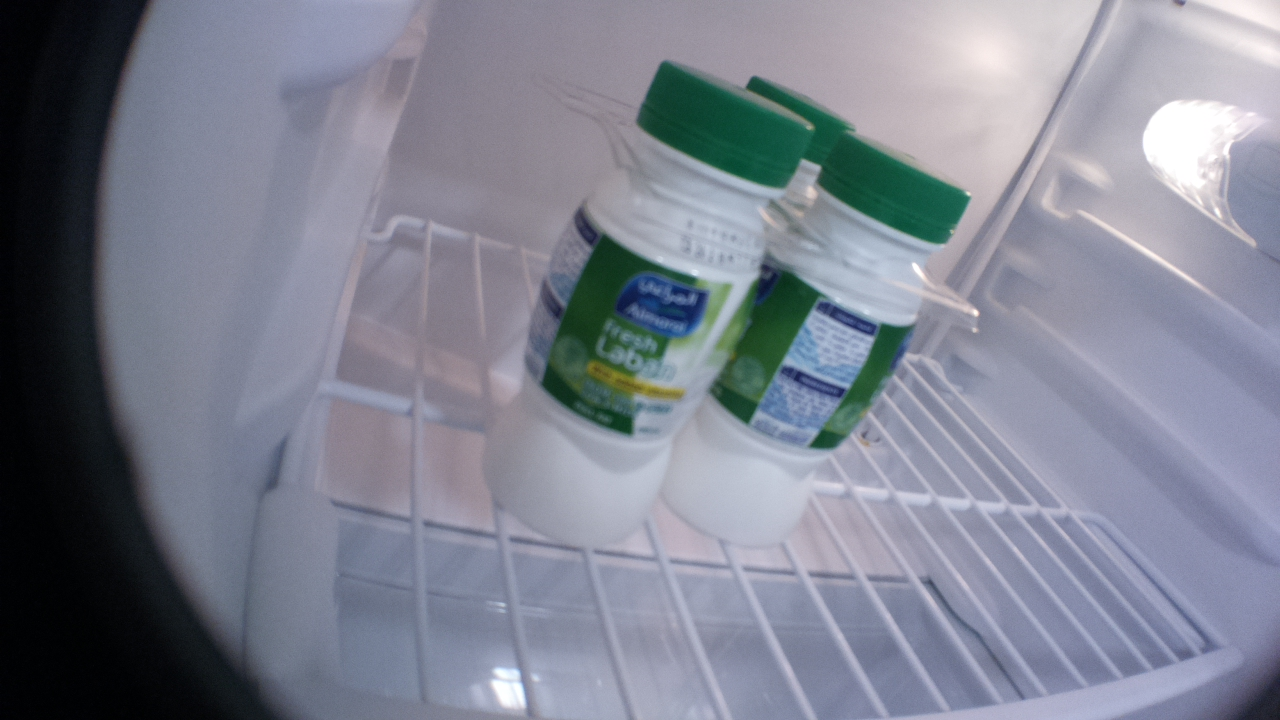laban: (482, 60, 813, 548), (659, 133, 969, 551), (741, 60, 857, 157)
